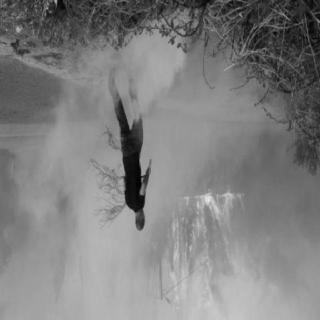Fire: (146, 190, 248, 318)
Smoke: (16, 21, 169, 289)
